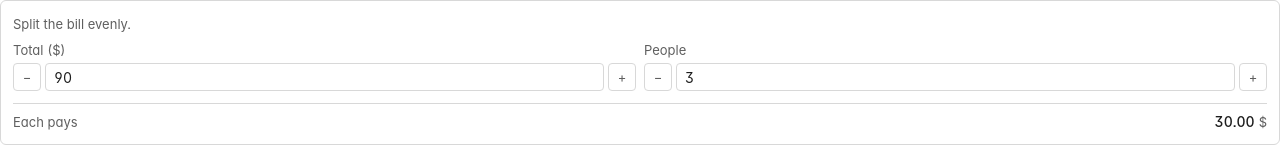
UiCalculator (interactive catalog) › steppers move by step and respect min
Step 1. Click the button named "Increase People" → point(1253, 77), box [1239, 63, 1267, 91]
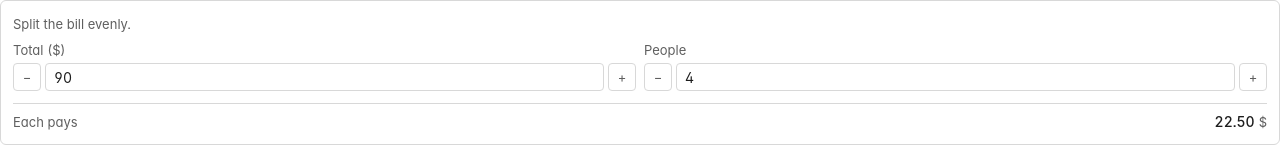
Check: the number field named "People" holds "4", box [676, 63, 1235, 91]
Check: the text "22.50" is shown, box [1215, 113, 1255, 130]
Step 2. Click the button named "Decrease People" → point(658, 77), box [644, 63, 672, 91]
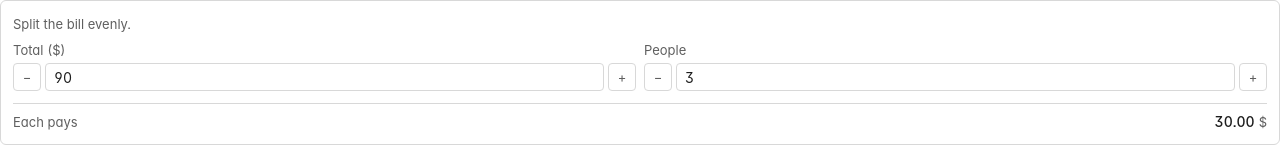
Step 3. Click the button named "Decrease People" → point(658, 77), box [644, 63, 672, 91]
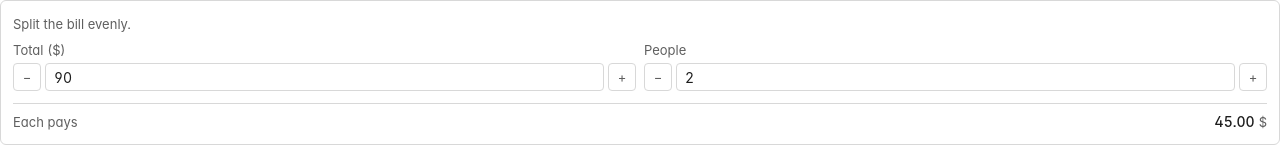
Step 4. Click the button named "Decrease People" → point(658, 77), box [644, 63, 672, 91]
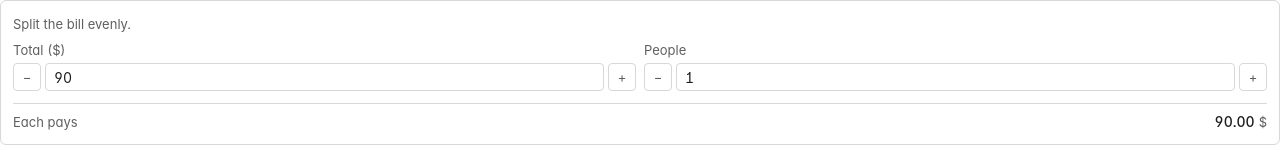
Check: the number field named "People" holds "1", box [676, 63, 1235, 91]
Check: the text "90.00" is shown, box [1215, 113, 1255, 130]
